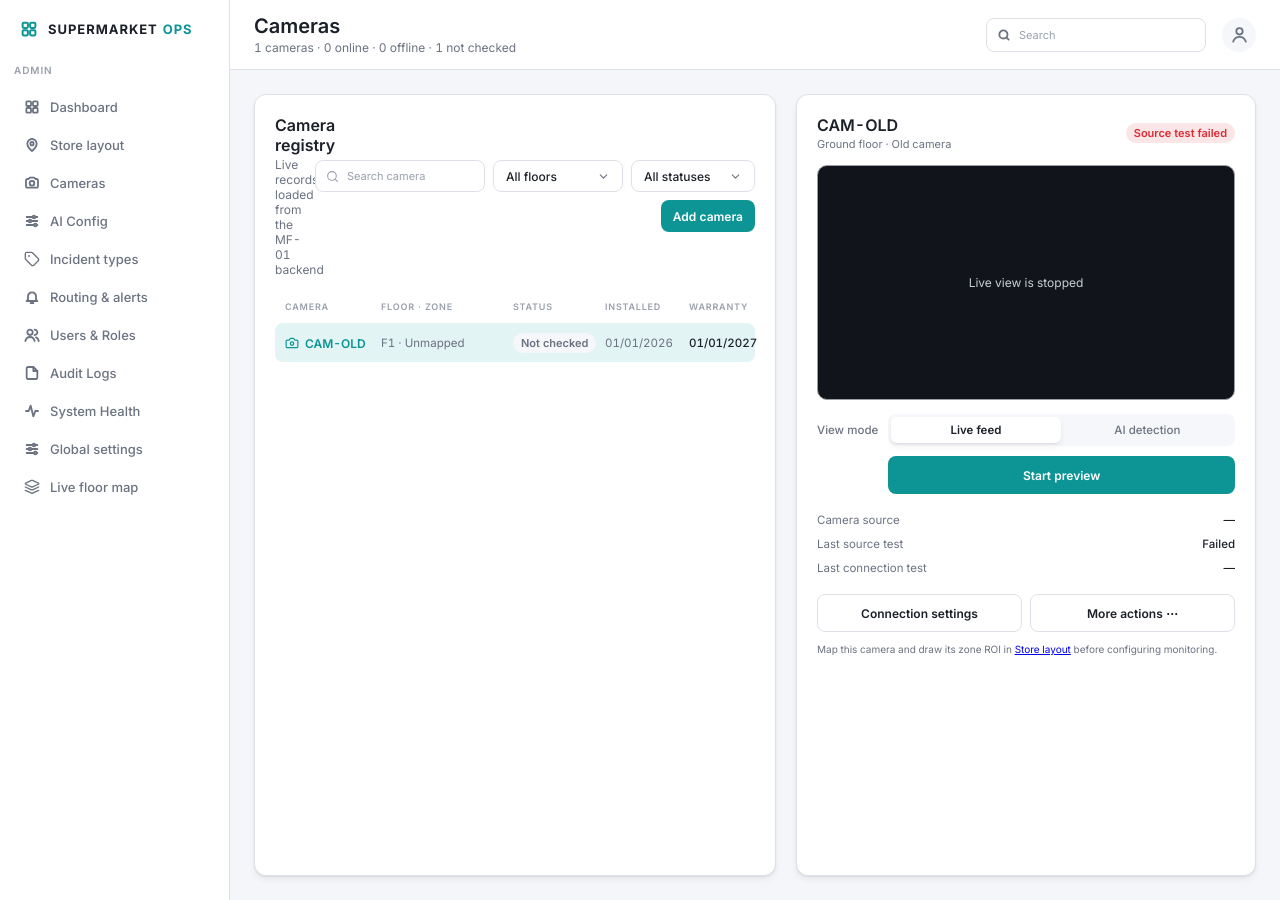
it: Cameras registration › stops the selected preview before selecting a newly registered camera
Click the button "Start preview": (1062, 475) [888,456,1235,494]
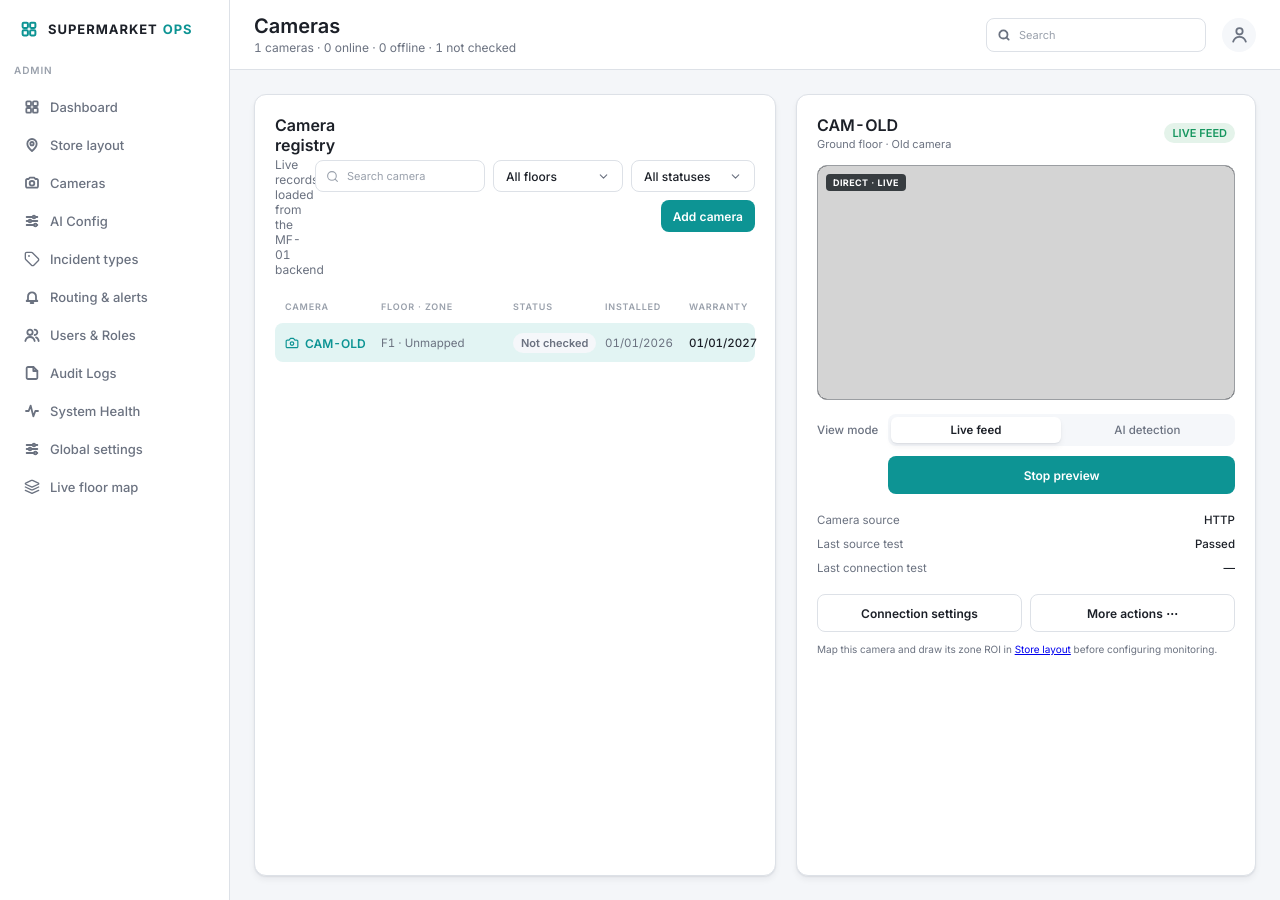
Check: the button "Stop preview" is shown, box [888,456,1235,494]
Click the button "Add camera": (708, 216) [661,200,755,232]
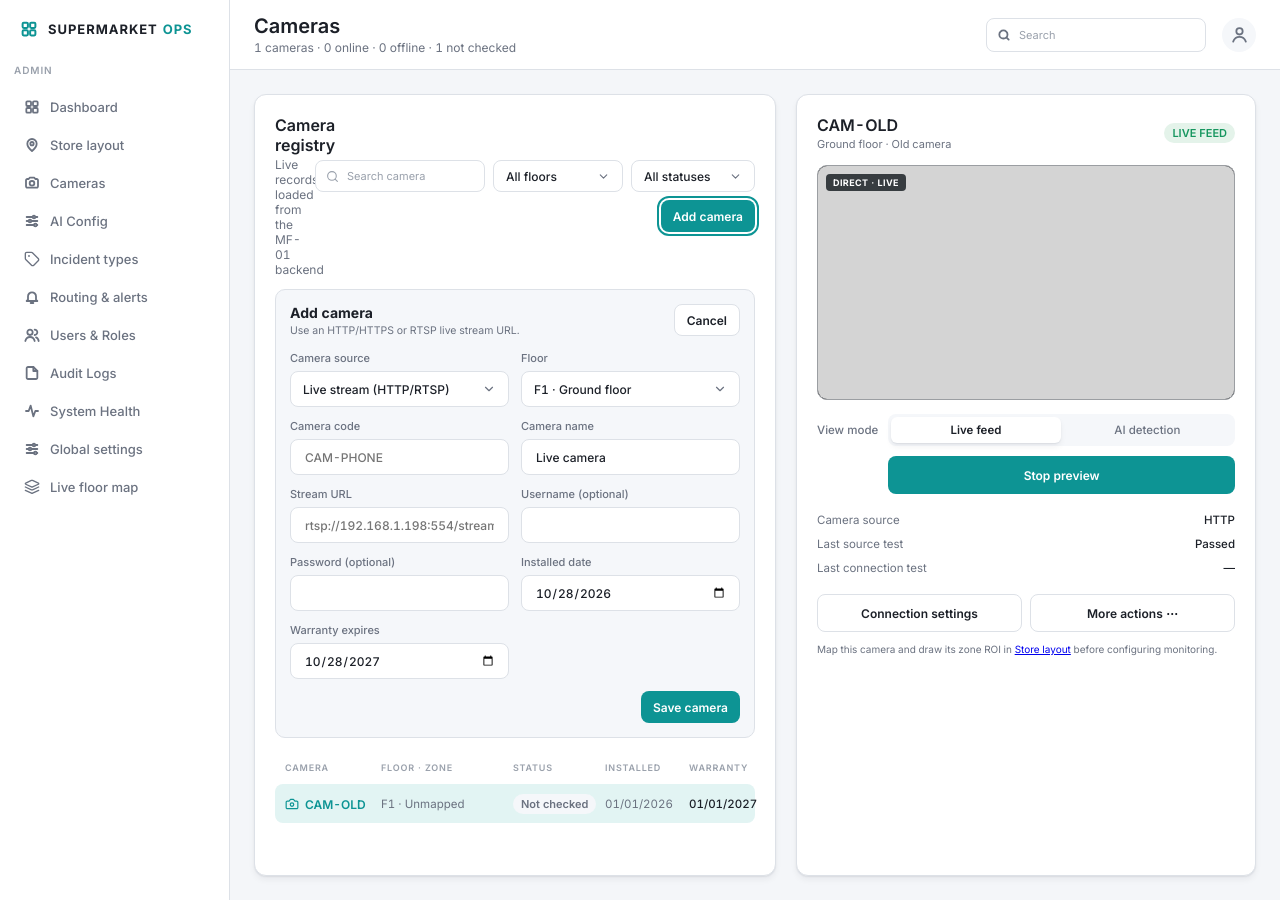
In the field labelled "Camera code": (400, 457) [303,448,496,466], type "CAM-NEW"
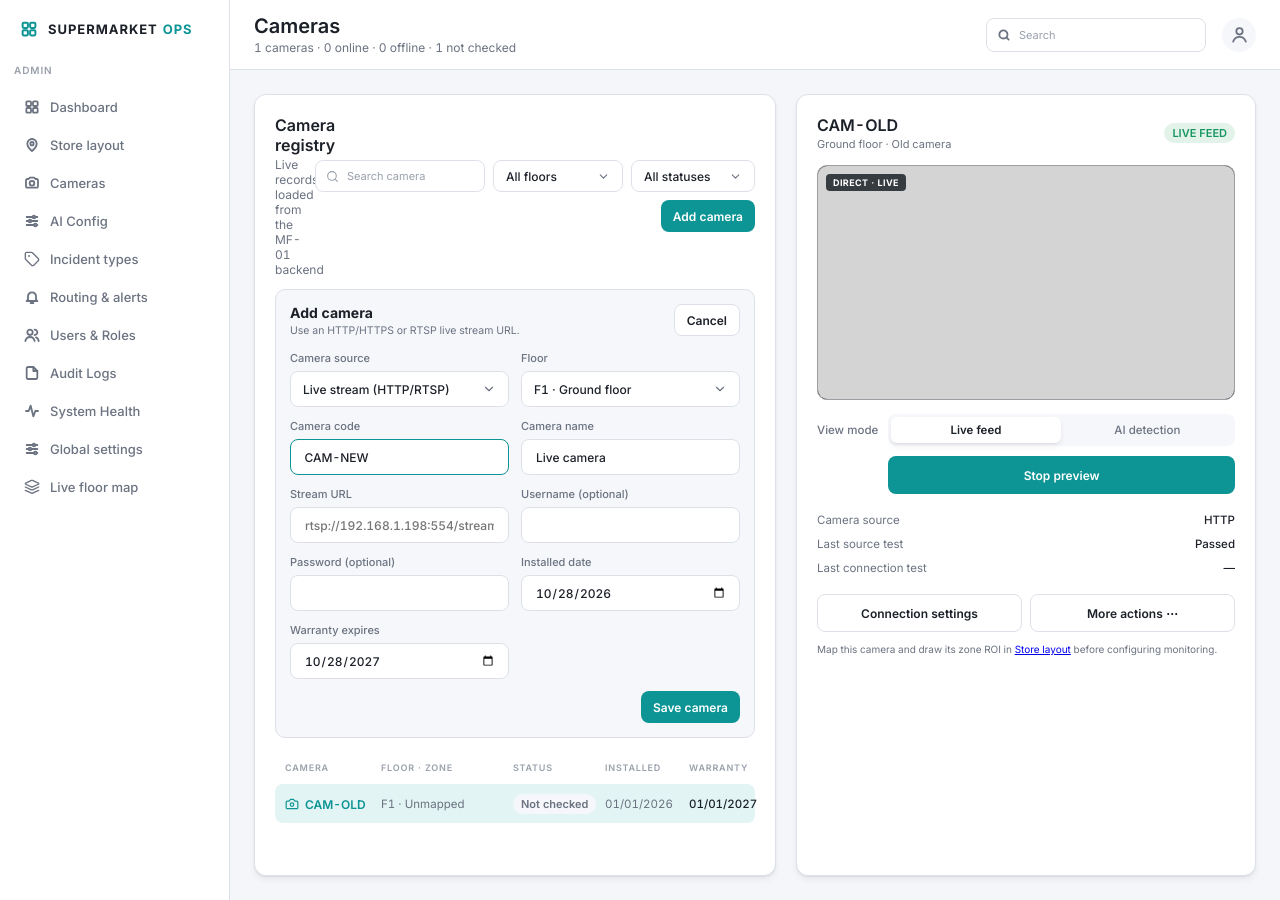
In the field labelled "Stream URL": (400, 525) [303,516,496,534], type "http://camera/video"
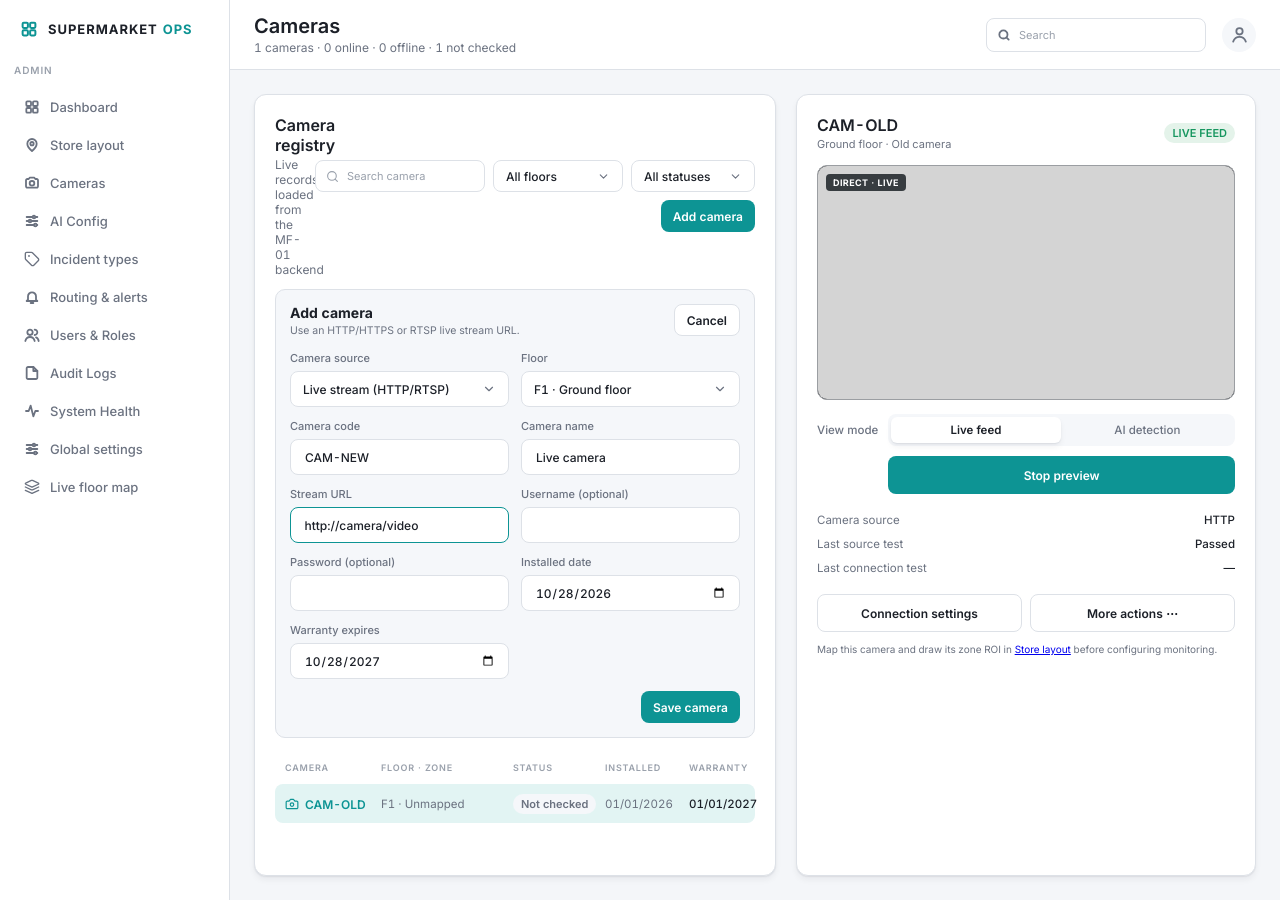
Click the button "Save camera": (690, 707) [641,691,740,723]
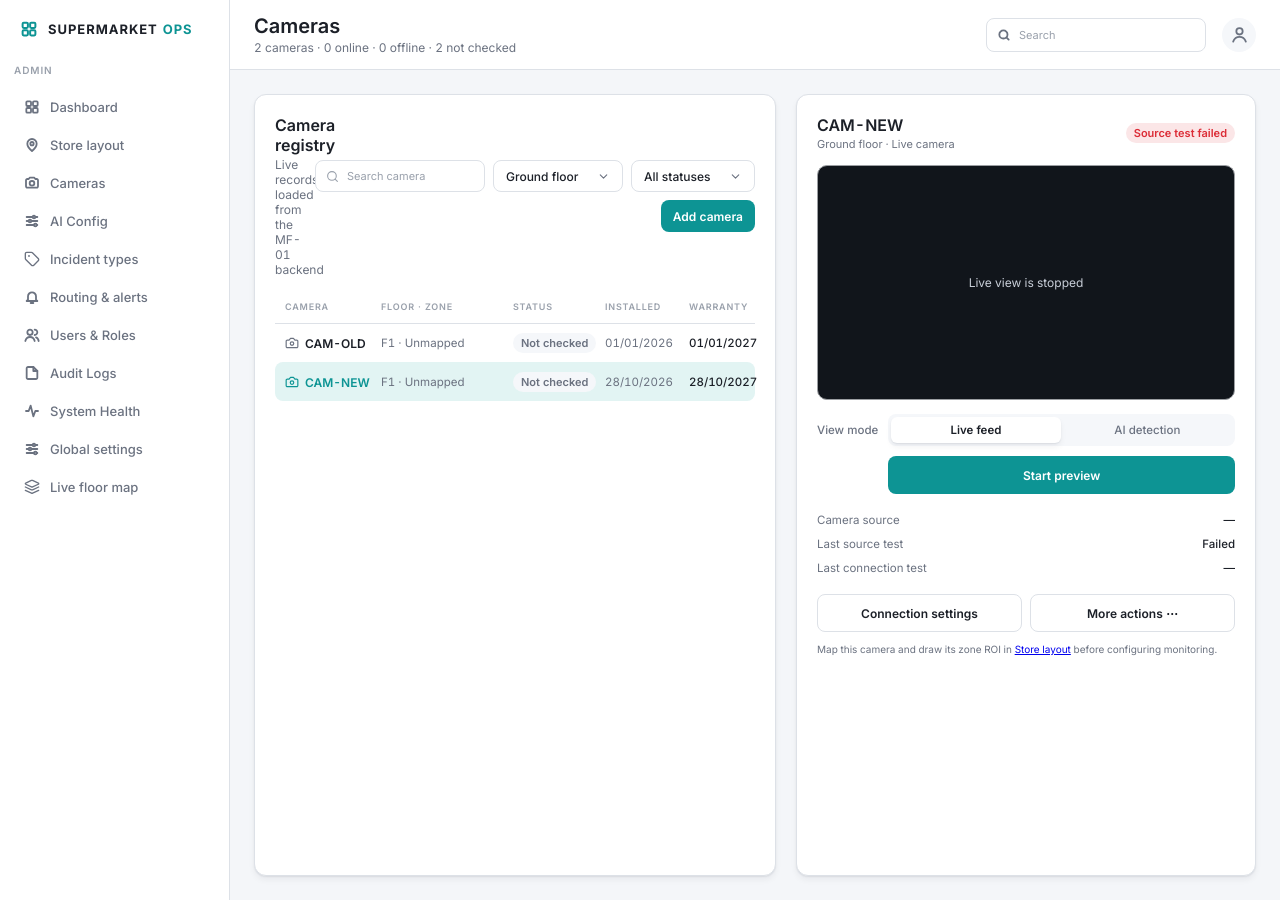
Check: the button "Start preview" is shown, box [888,456,1235,494]
Check: the button "Stop preview" is gone
